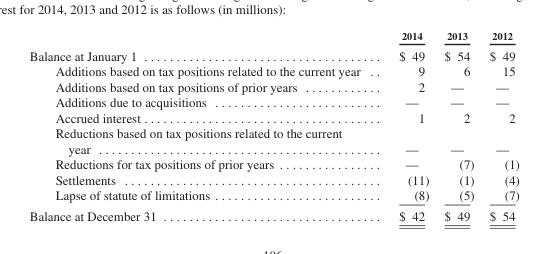table: (28, 29, 518, 222)
table column: (28, 29, 379, 222), (379, 29, 436, 222), (436, 29, 481, 222), (481, 29, 518, 222)
table column header: (28, 29, 518, 44)
table row: (28, 125, 518, 156), (28, 44, 518, 62), (28, 187, 518, 205), (28, 205, 518, 222), (28, 62, 518, 78), (28, 93, 518, 109), (28, 109, 518, 125), (28, 171, 518, 187), (28, 29, 518, 44), (28, 78, 518, 93), (28, 156, 518, 171)
